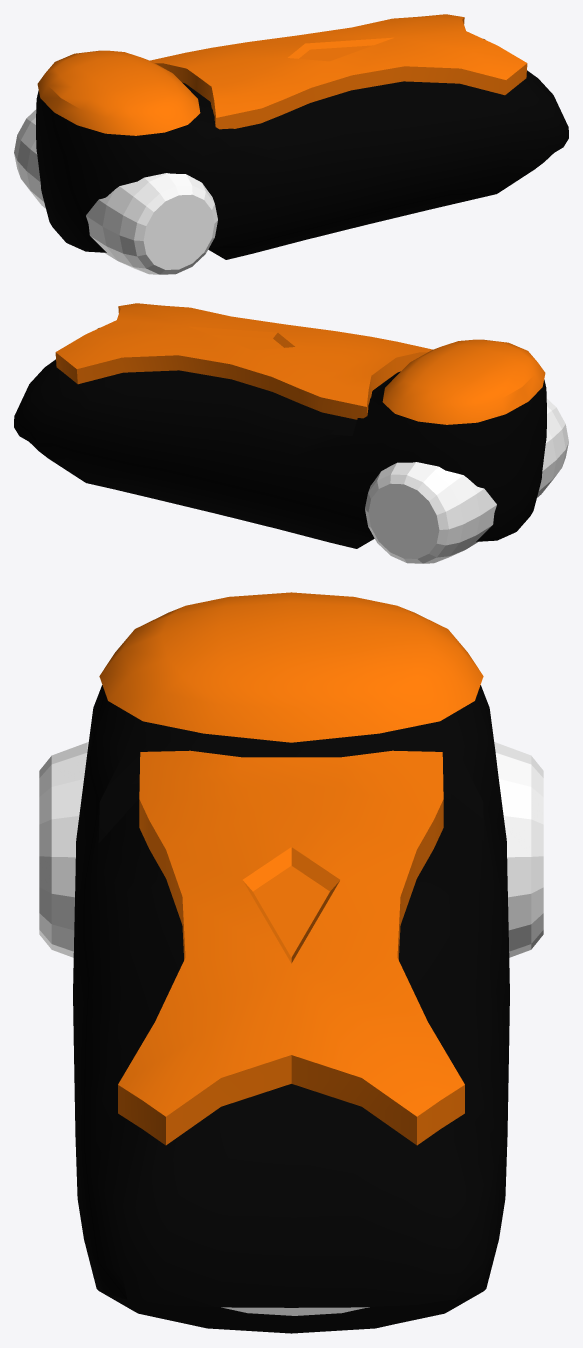
File: new_simHand_id42.fbx
3 renders of one model, top to bottom at view 1: azimuth 30°, elevation 25°; view 2: azimuth 150°, elevation 25°; view 3: azimuth 270°, elevation 25°, orthographic. The views are drawn at different scales.
Parts seen in each view (by area): view 1: Cube.012, Cylinder.006; view 2: Cube.012, Cylinder.006; view 3: Cube.012, Cylinder.006.
Boxes of the visible parts, x1,y1,x2,y2 form: Cube.012: (36,14,568,259); Cylinder.006: (14,109,217,274); Cube.012: (14,303,546,548); Cylinder.006: (365,398,568,563); Cube.012: (73,592,509,1333); Cylinder.006: (39,742,543,957).
Bounding box in the file's own units: 65.84 × 26.24 × 29.89.
